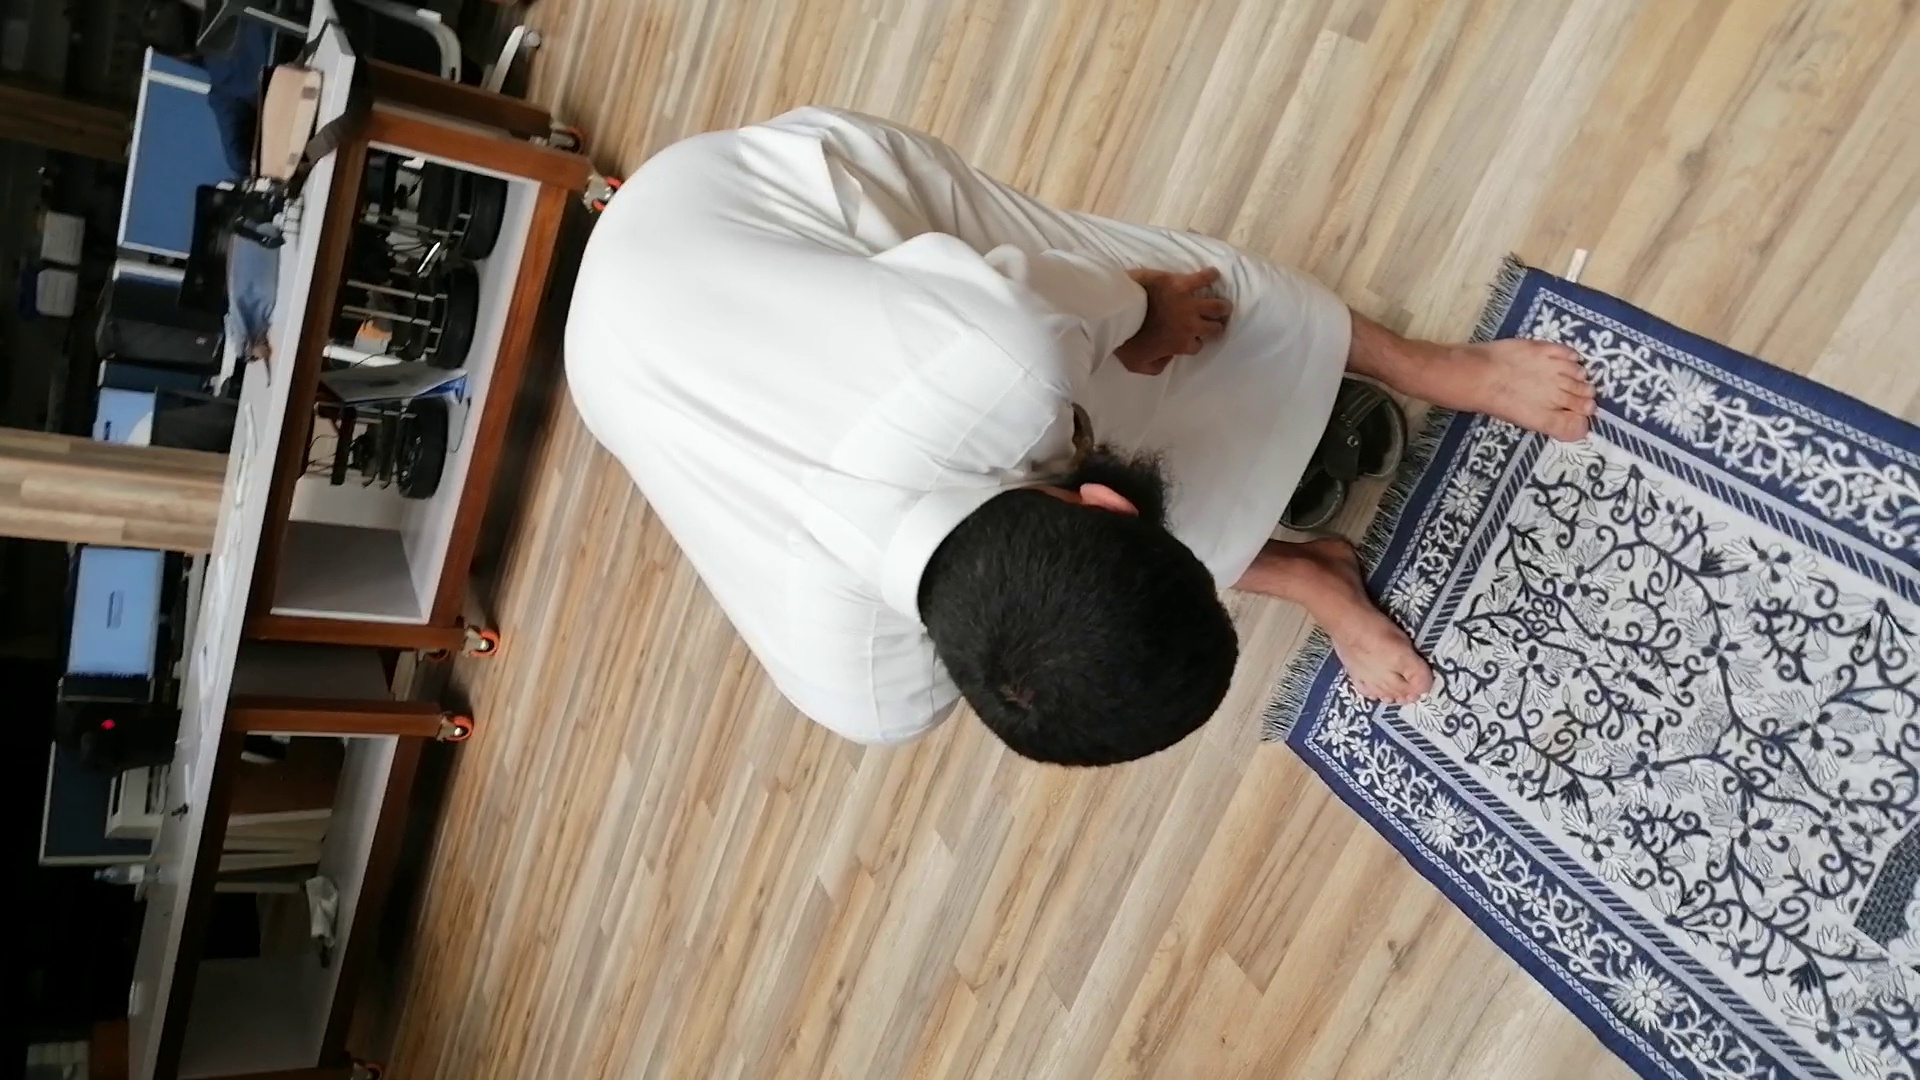ruku: (186, 51, 1756, 882)
